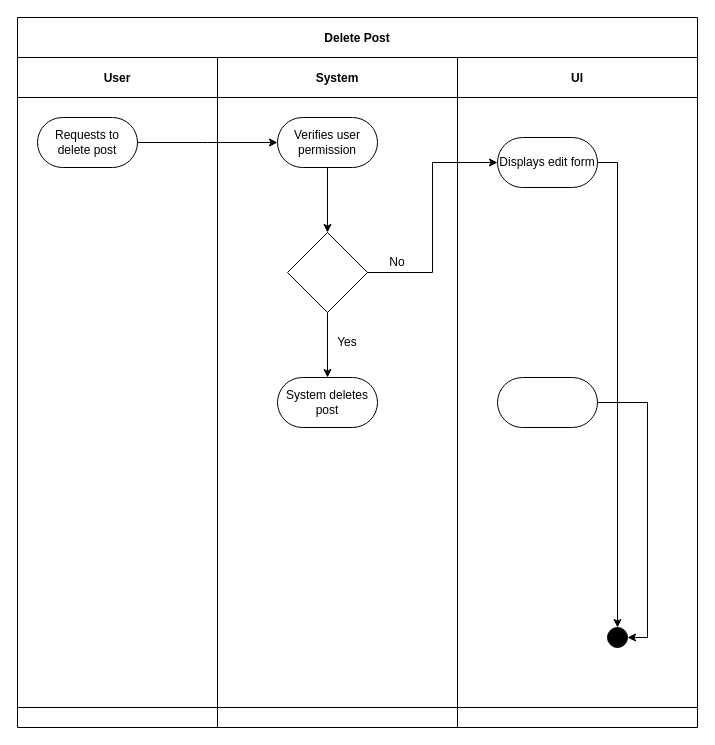
The diagram is 715 pixels wide and 745 high, and some of its shapes have lost their labels. Here are the shapes that lost their labels. From the top down, the centre of each, then its label:
the point at 327,272: authoried person
the point at 547,402: Confirms post deletion
